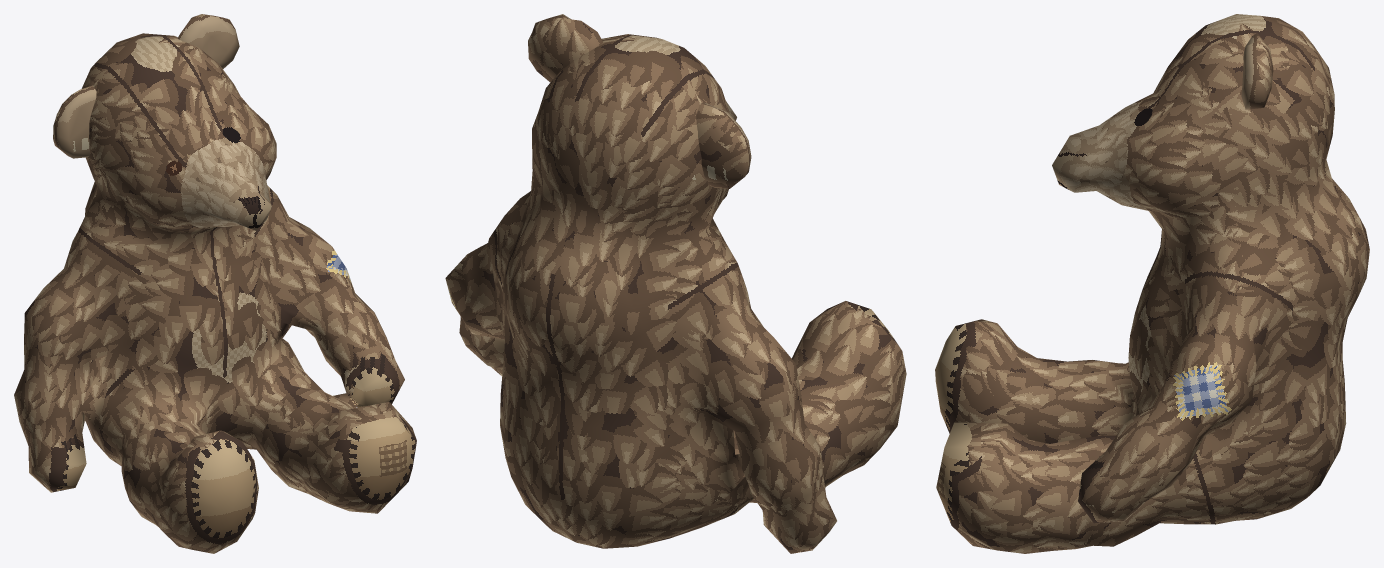
The model's file is teddy_old.glb.
3 views of the same model, side by side, from view 1: azimuth 30°, elevation 25°; view 2: azimuth 150°, elevation 25°; view 3: azimuth 270°, elevation 25° (orthographic). The views are drawn at different scales.
Parts seen in each view (by area): view 1: body; view 2: body; view 3: body.
Part boxes in pixels (x1,y1,x2,y2): body: (14, 14, 416, 553); body: (445, 14, 906, 553); body: (935, 14, 1369, 553).
Bounding box in the file's own units: 0.21 × 0.2598 × 0.2117.
1 material, 1 textured.
